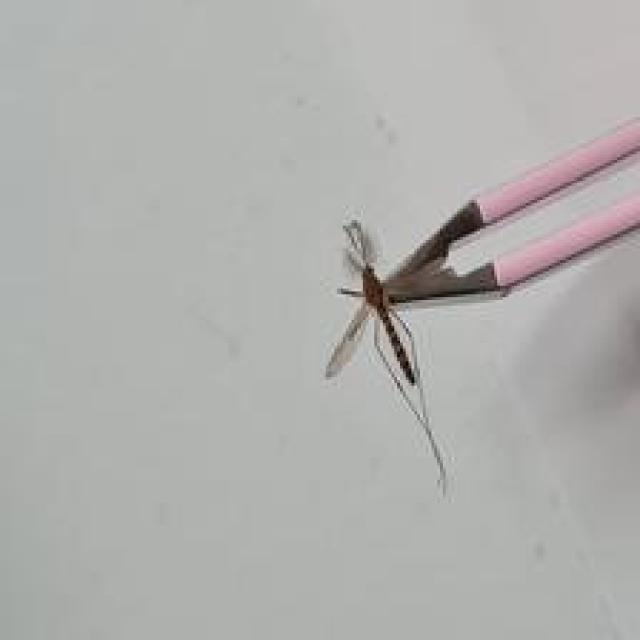Culex: (323, 97, 640, 497)
